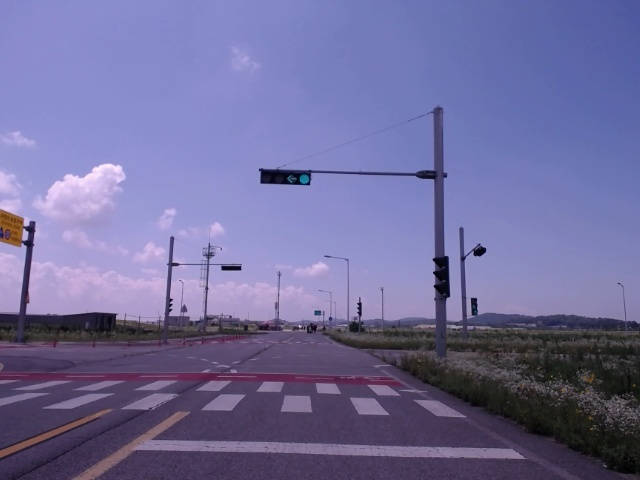all_green_4: (258, 170, 312, 187)
